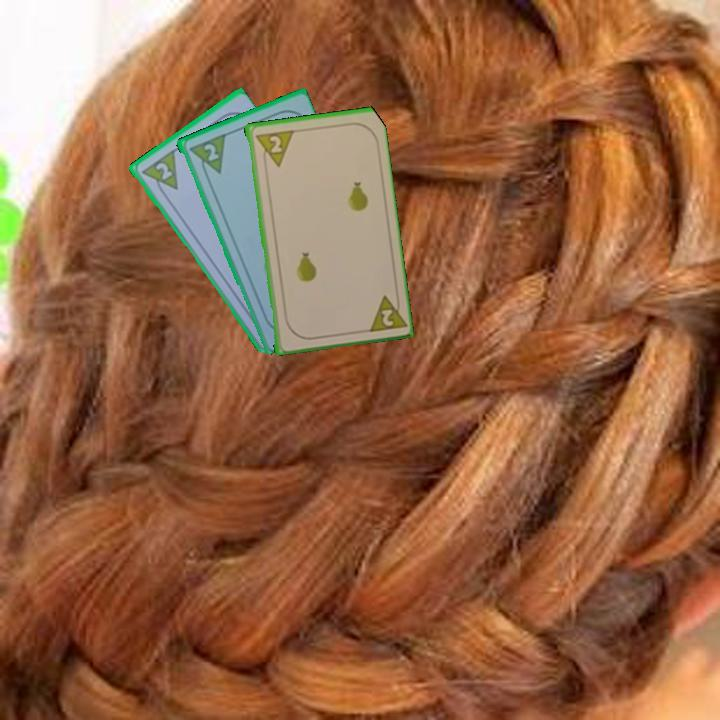2p: (137, 147, 181, 200), (185, 130, 228, 181), (363, 289, 407, 335), (251, 126, 295, 170)
